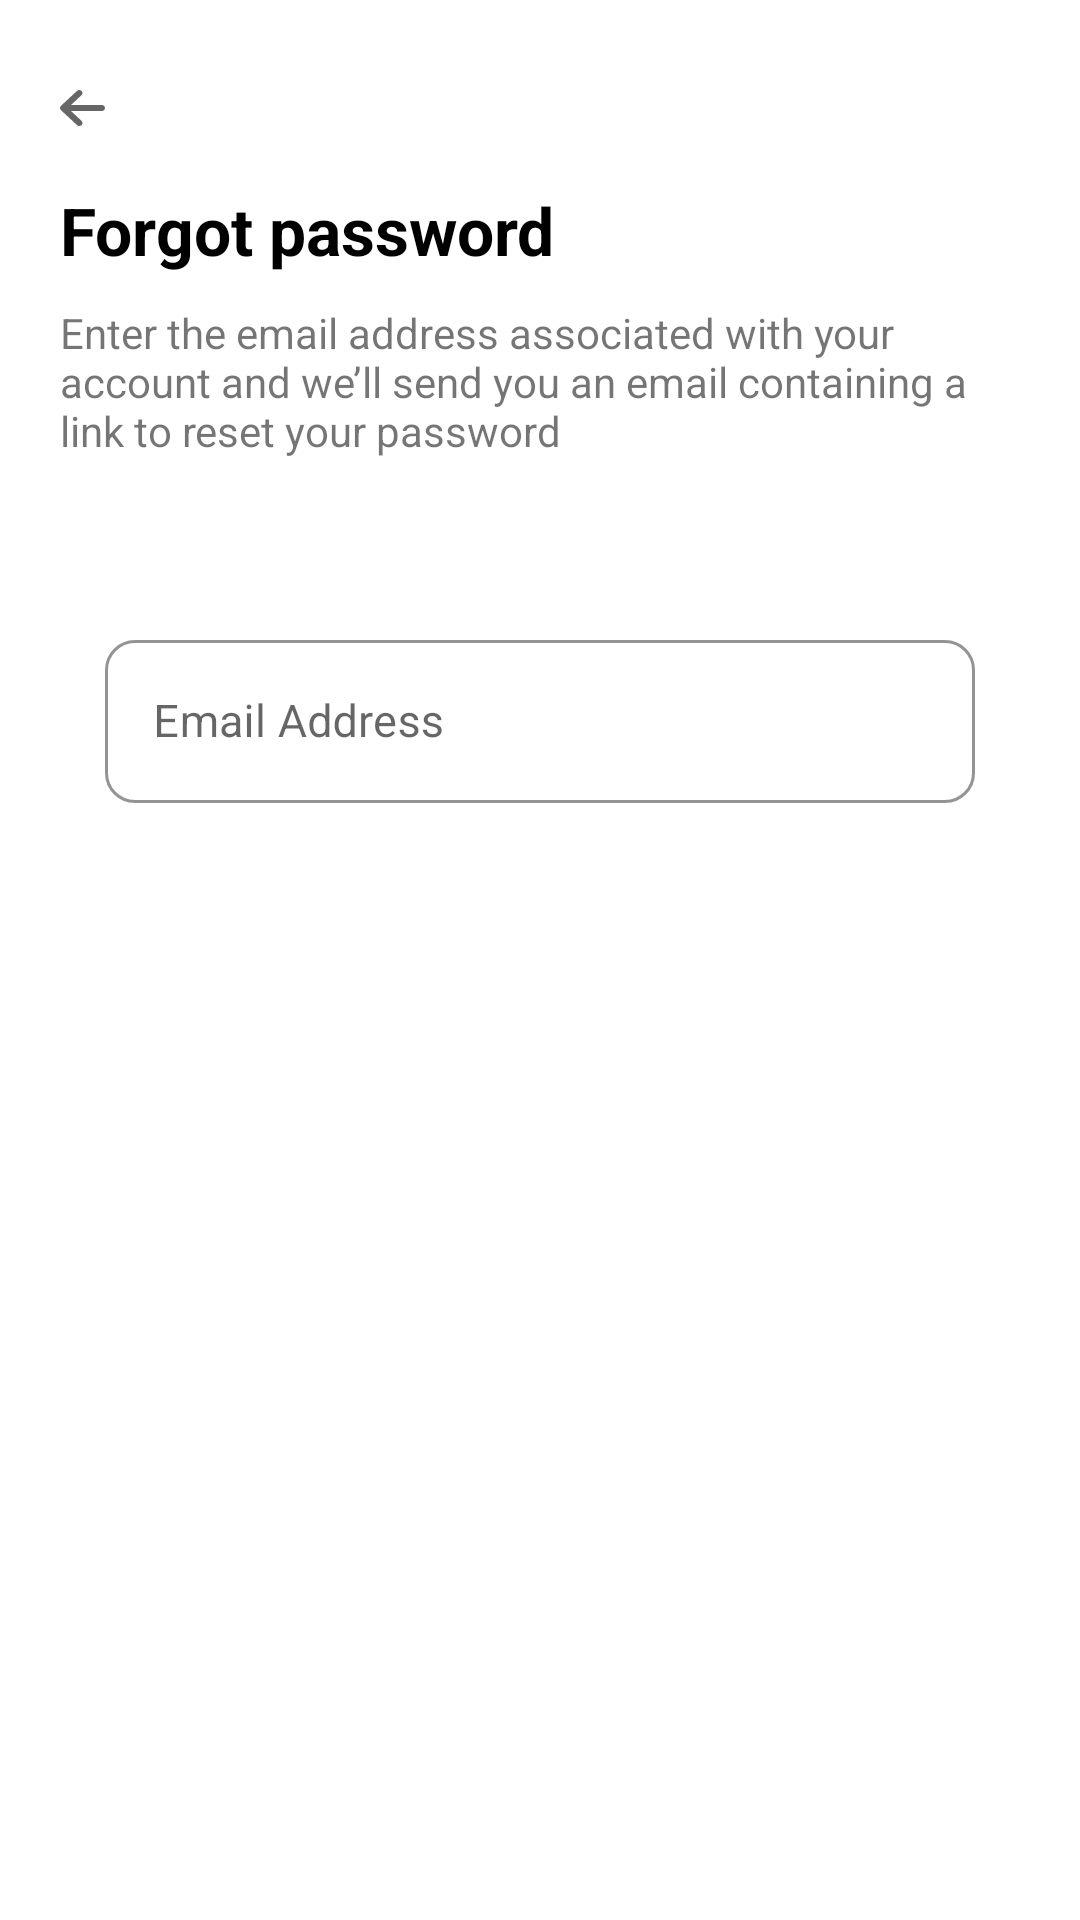

Icons on this 1080px x 1920px Android screen, each with the point to tap as (x,y):
back: (82,108)
